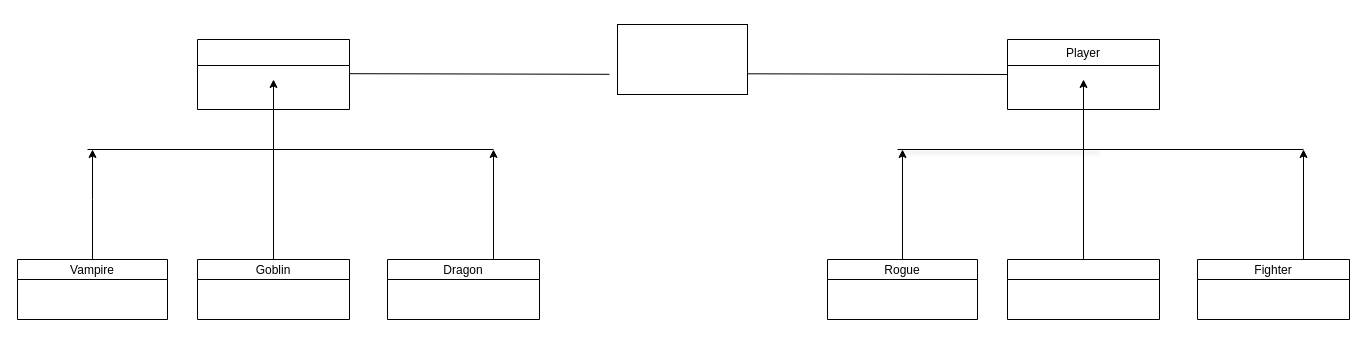
This 1367x337 diagram has some shape labels left out. Each missing label, with the centre of its shape:
Card: (273,74)
system: (682,59)
Wizard: (1083,289)
